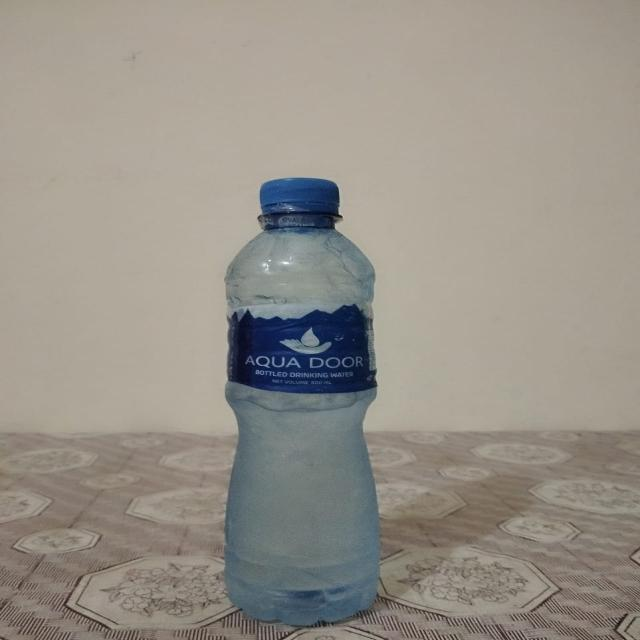bottle: (222, 175, 384, 626)
cap: (258, 178, 342, 214)
label: (229, 302, 375, 396)
